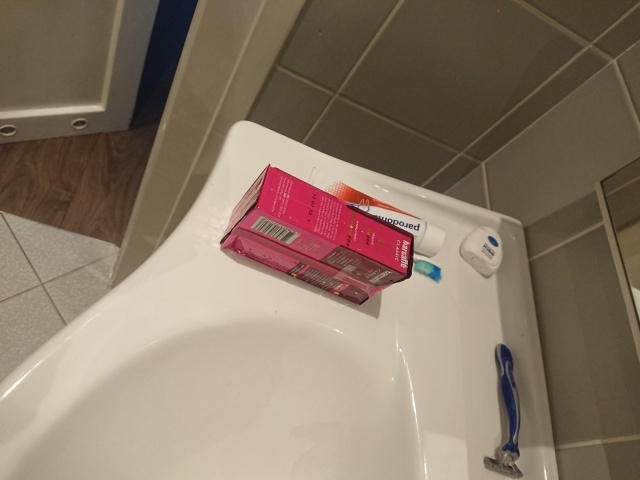Barcaffe Classic Original 225g: (218, 162, 416, 307)
